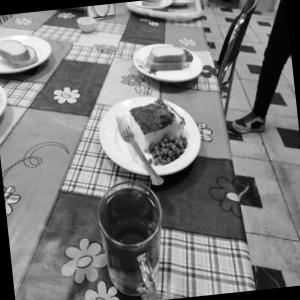bread: (142, 38, 195, 77), (0, 33, 40, 71)
casserole: (118, 94, 194, 170)
tea: (86, 171, 180, 297)
